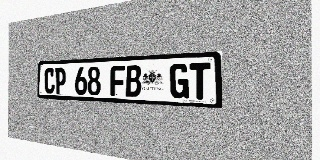6: (75, 67, 87, 95)
8: (88, 66, 101, 95)
B: (126, 65, 141, 97)
C: (44, 68, 55, 94)
F: (110, 65, 125, 96)
G: (170, 63, 189, 99)
P: (55, 67, 66, 94)
T: (190, 62, 211, 100)
